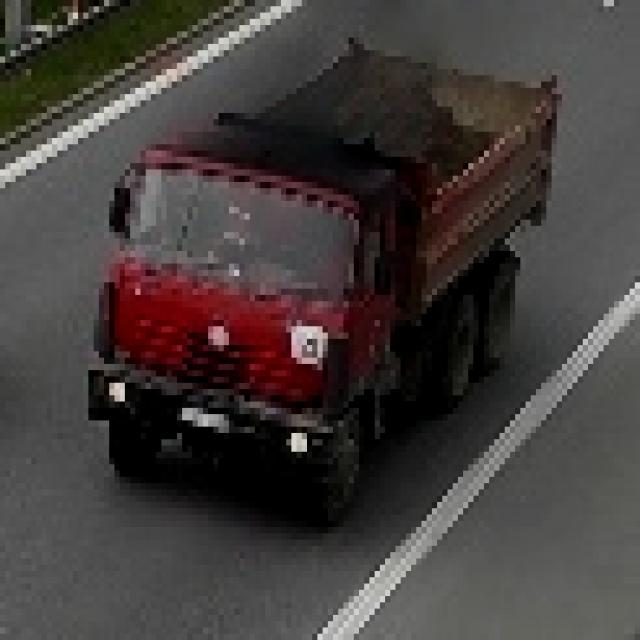truck: (84, 39, 558, 509)
